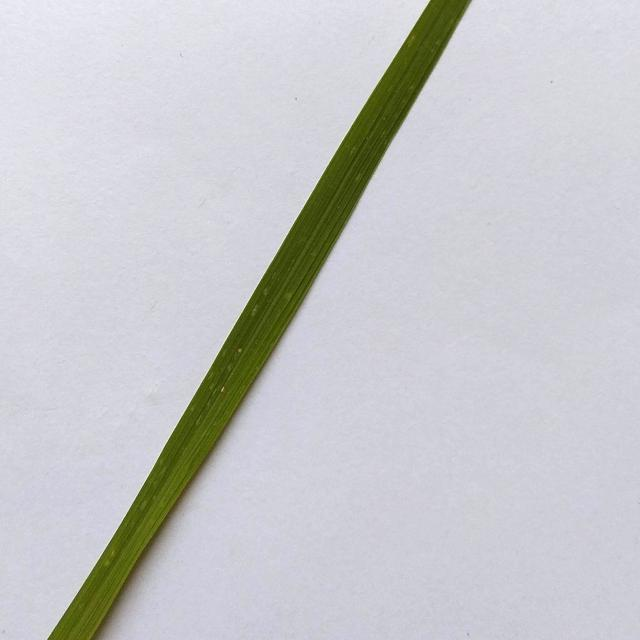Blast: (217, 379, 234, 402)
